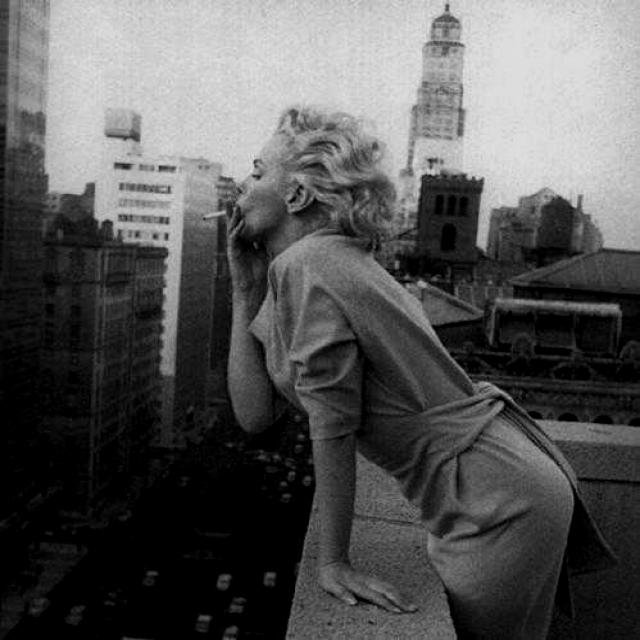Smooking: (196, 199, 234, 230)
